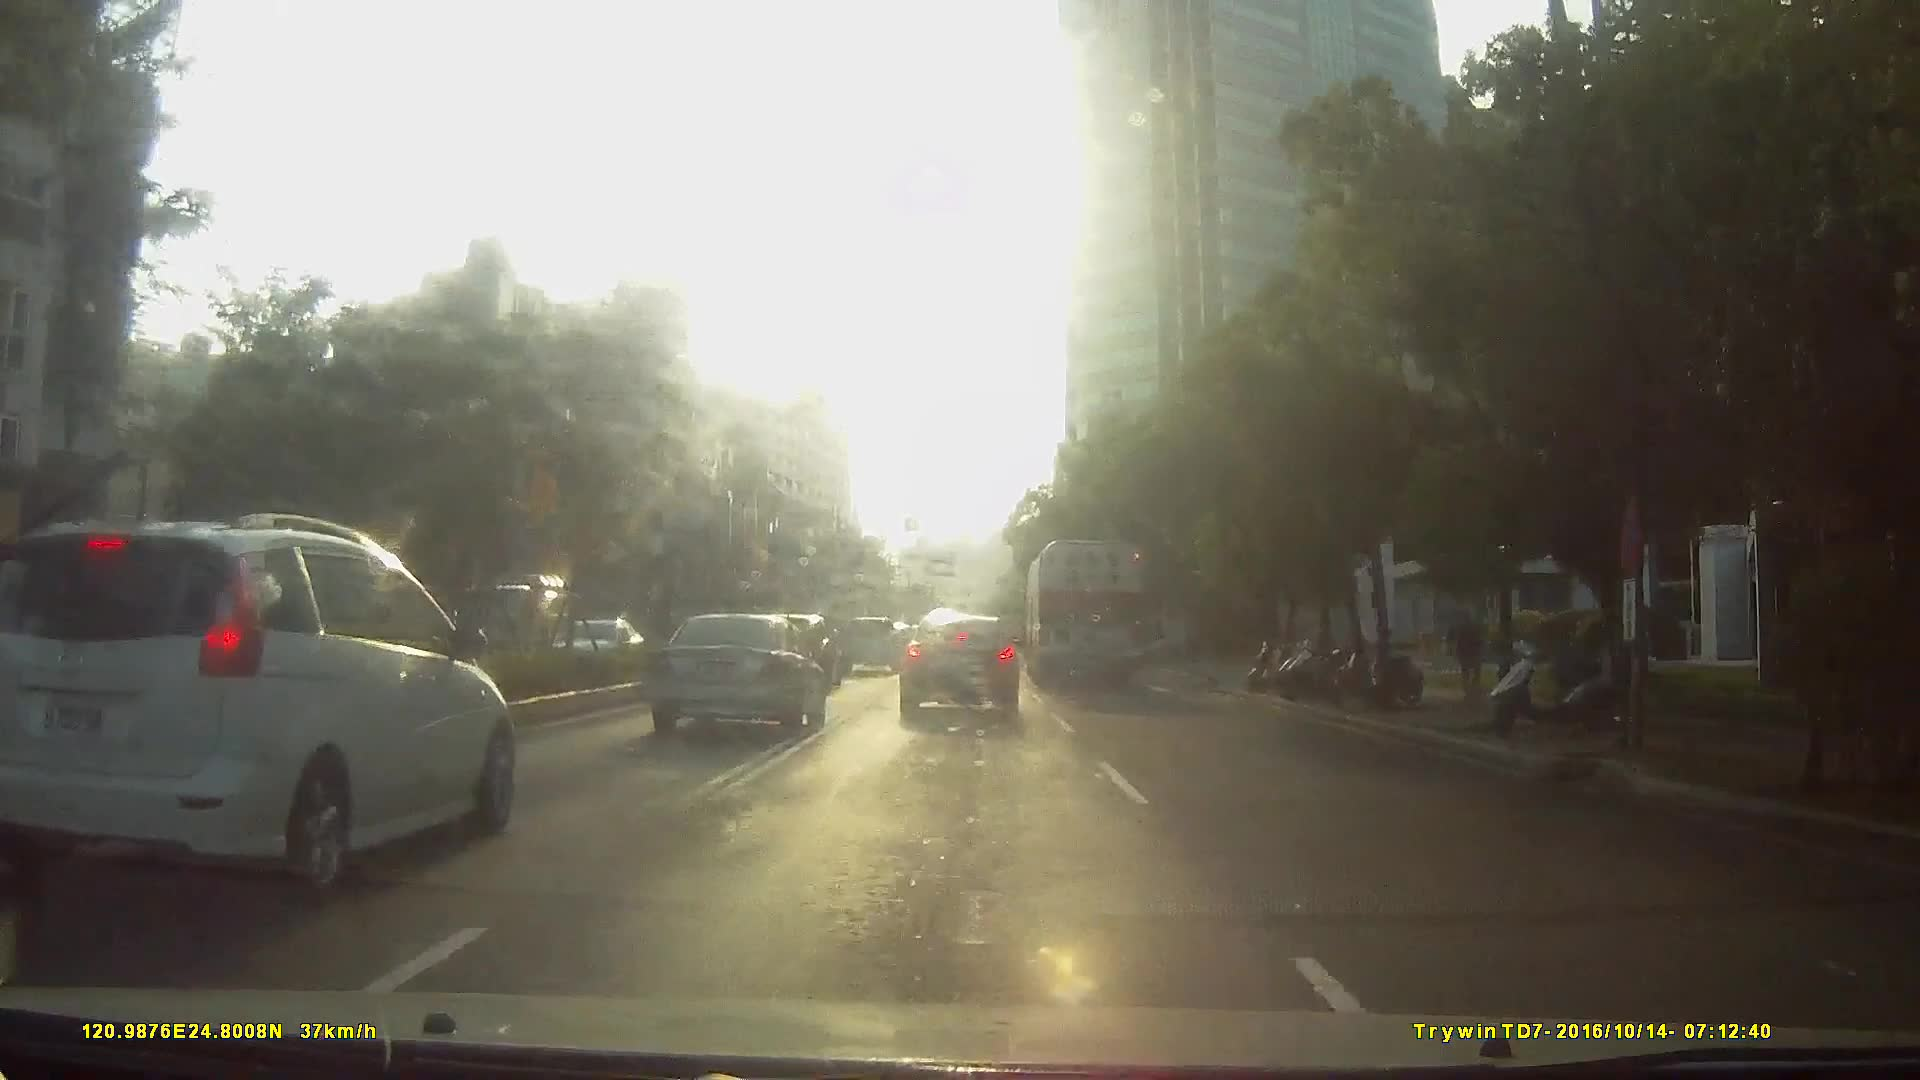pedestrian: (1453, 610, 1492, 709)
vehicle: (36, 495, 514, 919), (250, 556, 684, 868), (641, 609, 823, 740), (1022, 536, 1147, 692), (895, 613, 1023, 717), (445, 565, 556, 658), (550, 617, 649, 675), (832, 614, 900, 671)
